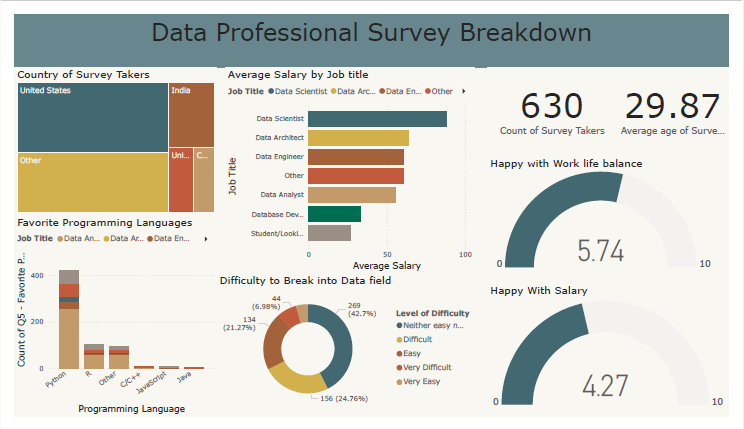

The dashboard page shown, as its layout file describes it:
{"tool":"powerbi","page":{"name":"Page 1","canvas":[1280,720],"ordinal":0},"visuals":[{"type":"textbox","box":[0,0,1280.3,95.2],"z":0},{"type":"card","fields":{"Values":["Count(Data Professional Survey.Unique ID)"]},"box":[848.2,95.2,231.4,149.4],"z":1000},{"type":"card","fields":{"Values":["Avg(Data Professional Survey.Q10 - Current Age)"]},"box":[1079.6,95.2,200.7,149.4],"z":2000},{"type":"barChart","title":"Average Salary by Job title","fields":{"Category":["Data Professional Survey.Q1 - Which Title Best Fits your Current Role?.1"],"Y":["Avg(Data Professional Survey.Average Salary)"],"Series":["Data Professional Survey.Q1 - Which Title Best Fits your Current Role?.1"]},"box":[377.9,95.2,446.8,369.1],"z":3000},{"type":"columnChart","title":"Favorite Programming Languages","fields":{"Category":["Data Professional Survey.Q5 - Favorite Programming Language.1"],"Y":["CountNonNull(Data Professional Survey.Q5 - Favorite Programming Language.1)"],"Series":["Data Professional Survey.Q1 - Which Title Best Fits your Current Role?.1"]},"box":[0,360.4,363.3,360.4],"z":4000},{"type":"treemap","title":"Country of Survey Takers","fields":{"Group":["Data Professional Survey.Q11 - Which Country do you live in?.1"],"Values":["CountNonNull(Data Professional Survey.Q11 - Which Country do you live in?.1)"]},"box":[0,95.2,363.3,265.1],"z":5000},{"type":"gauge","title":"Happy With Salary","fields":{"Y":["Avg(Data Professional Survey.Q6 - How Happy are you in your Current Position with the following? (Salary))"],"MinValue":["Min(Data Professional Survey.Q6 - How Happy are you in your Current Position with the following? (Salary))"],"MaxValue":["Max(Data Professional Survey.Q6 - How Happy are you in your Current Position with the following? (Salary))1"]},"box":[848.2,483.4,432.1,230],"z":6000},{"type":"gauge","title":"Happy with Work life balance","fields":{"Y":["Avg(Data Professional Survey.Q6 - How Happy are you in your Current Position with the following? (Work/Life Balance))"],"MinValue":["Min(Data Professional Survey.Q6 - How Happy are you in your Current Position with the following? (Work/Life Balance))1"],"MaxValue":["Max(Data Professional Survey.Q6 - How Happy are you in your Current Position with the following? (Work/Life Balance))2"]},"box":[848.2,254.9,416,209.5],"z":7000},{"type":"donutChart","title":" Difficulty to Break into Data field","fields":{"Category":["Data Professional Survey.Q7 - How difficult was it for you to break into Data?"],"Y":["CountNonNull(Data Professional Survey.Q7 - How difficult was it for you to break into Data?)"]},"box":[363.3,464.4,461.4,249],"z":8000}]}

Visuals, with their boxes in screenshot pixels (x1, y1, x2, y2), scaled from the page's 1280x720 canvas onto the 744x429 screenshot:
textbox: 0, 0, 743, 57
card - Count(Data Professional Survey.Unique ID): 493, 57, 628, 146
card - Avg(Data Professional Survey.Q10 - Current Age): 628, 57, 743, 146
"Average Salary by Job title" barChart: 220, 57, 479, 277
"Favorite Programming Languages" columnChart: 0, 215, 211, 428
"Country of Survey Takers" treemap: 0, 57, 211, 215
"Happy With Salary" gauge: 493, 288, 743, 425
"Happy with Work life balance" gauge: 493, 152, 735, 277
" Difficulty to Break into Data field" donutChart: 211, 277, 479, 425
